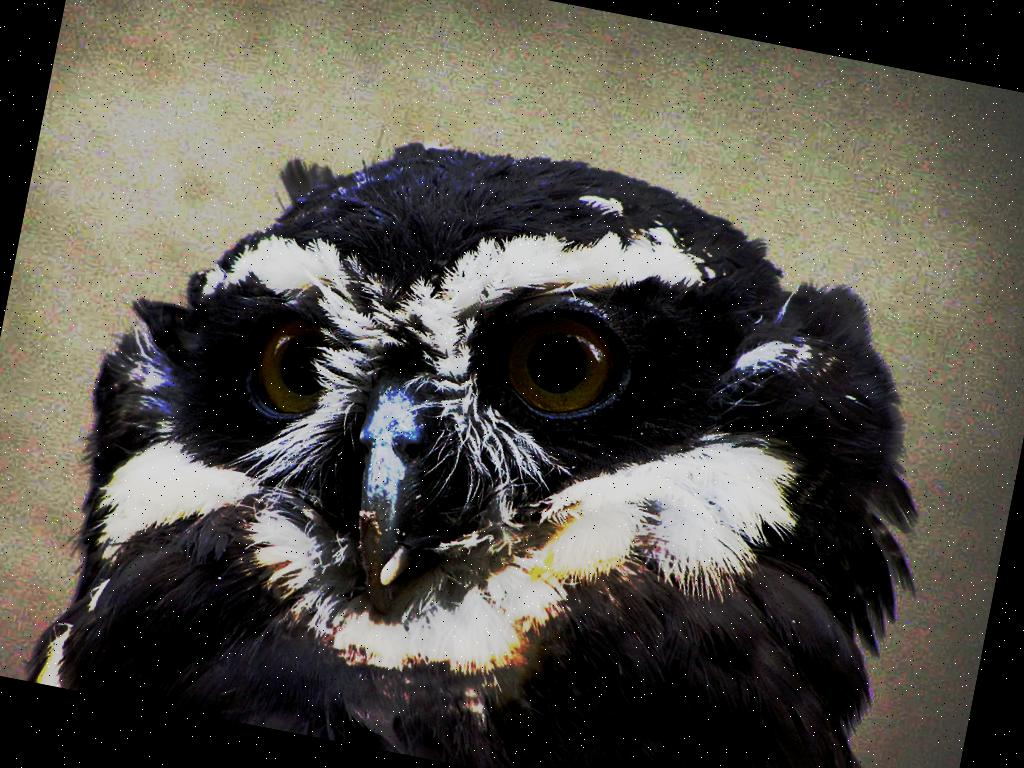Owl: (13, 71, 1001, 768)
